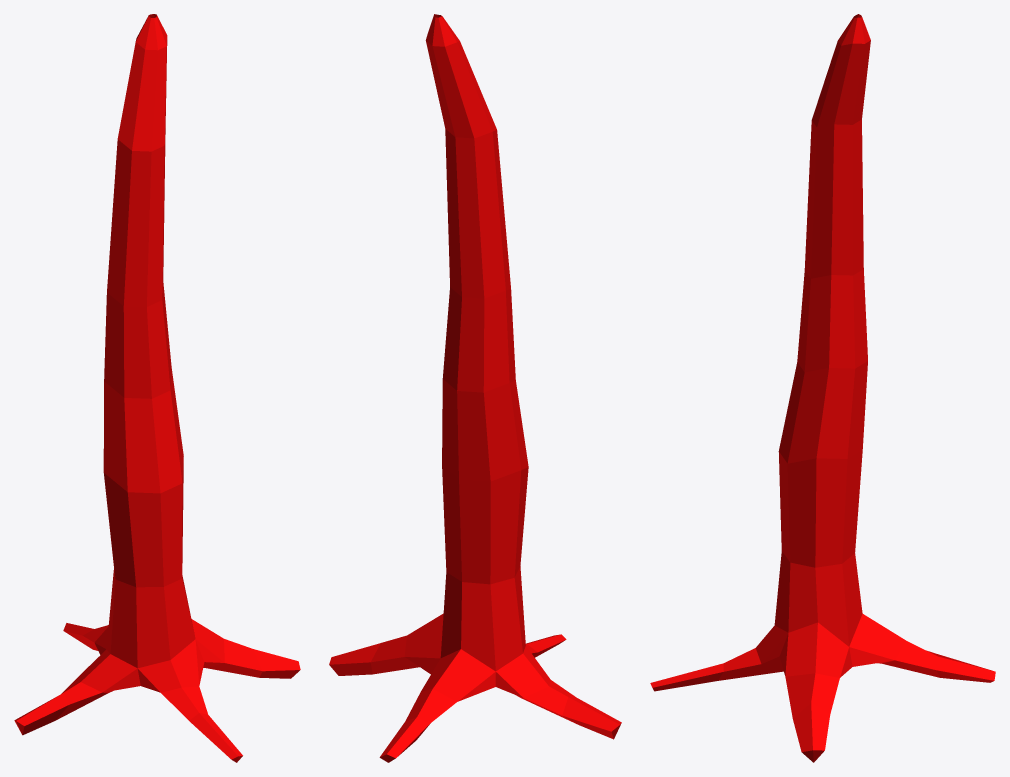
Rendered from Trunk-Straight.fbx.
The picture shows the model from 3 angles, left to right: view 1: azimuth 30°, elevation 25°; view 2: azimuth 150°, elevation 25°; view 3: azimuth 270°, elevation 25°; orthographic projection. The views are drawn at different scales.
Visible parts, largest first — view 1: Trunk; view 2: Trunk; view 3: Trunk.
Part boxes in pixels (<box>): Trunk: <box>14,14,300,762</box>; Trunk: <box>329,14,621,762</box>; Trunk: <box>650,14,995,762</box>.
Bounding box in the file's own units: 207 × 479 × 218.
